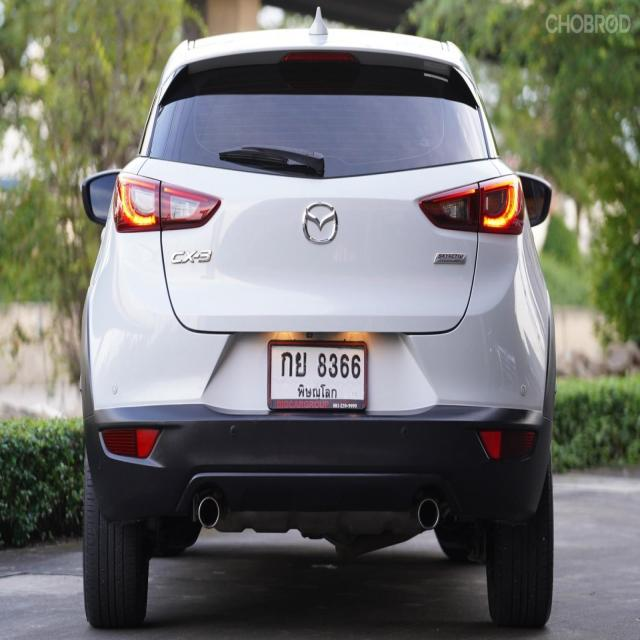license_plate: (267, 339, 368, 411)
